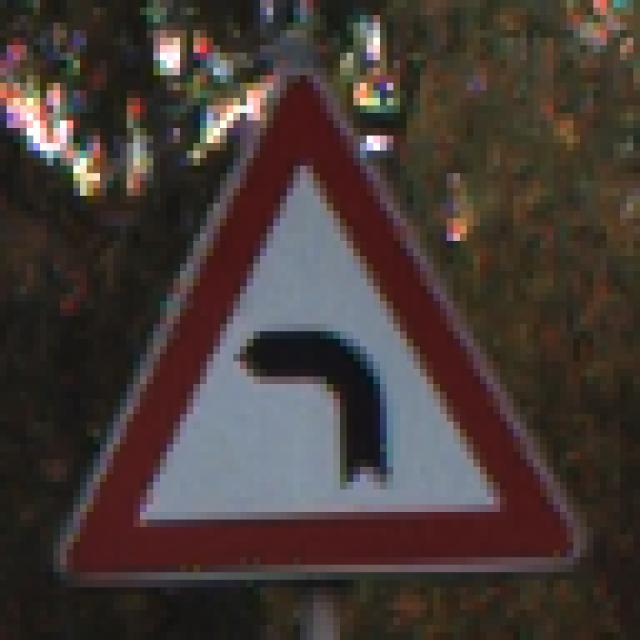left hand curve: (51, 75, 579, 566)
